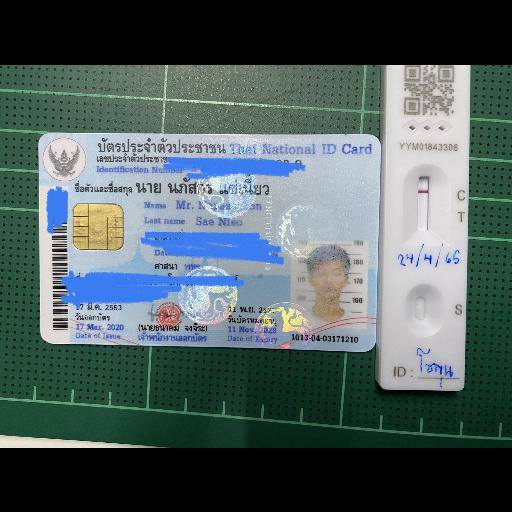Neg: (386, 64, 470, 390)
